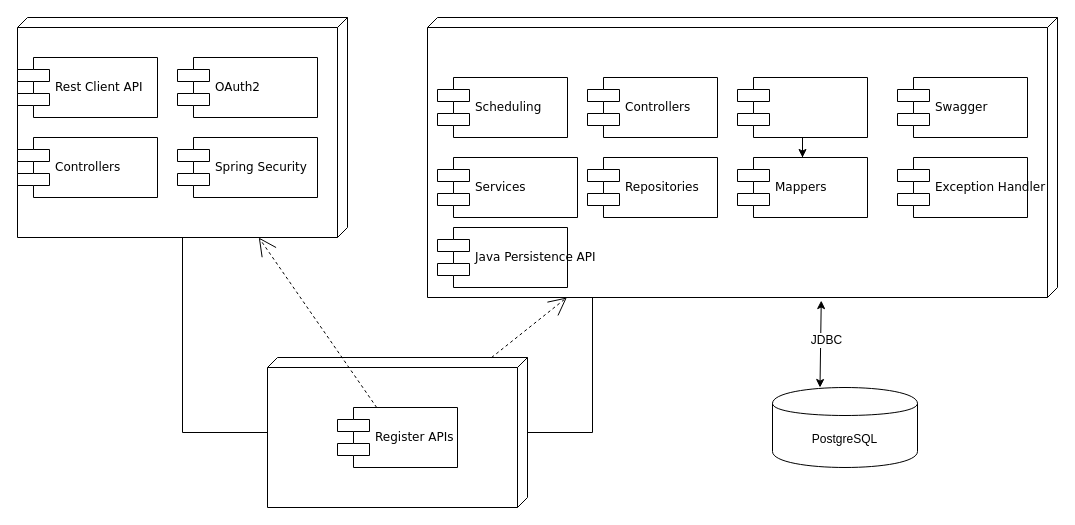
The diagram is 1075 pixels wide and 525 high, and some of its shapes have lost their labels. Here are the shapes that lost their labels. From the top down, the box of each, then its label:
(16, 16, 348, 238): OFFER-GATEWAY
(736, 76, 868, 138): Builders
(426, 16, 1058, 298): OFFER-SERVICE
(266, 356, 528, 508): Eureka Server
